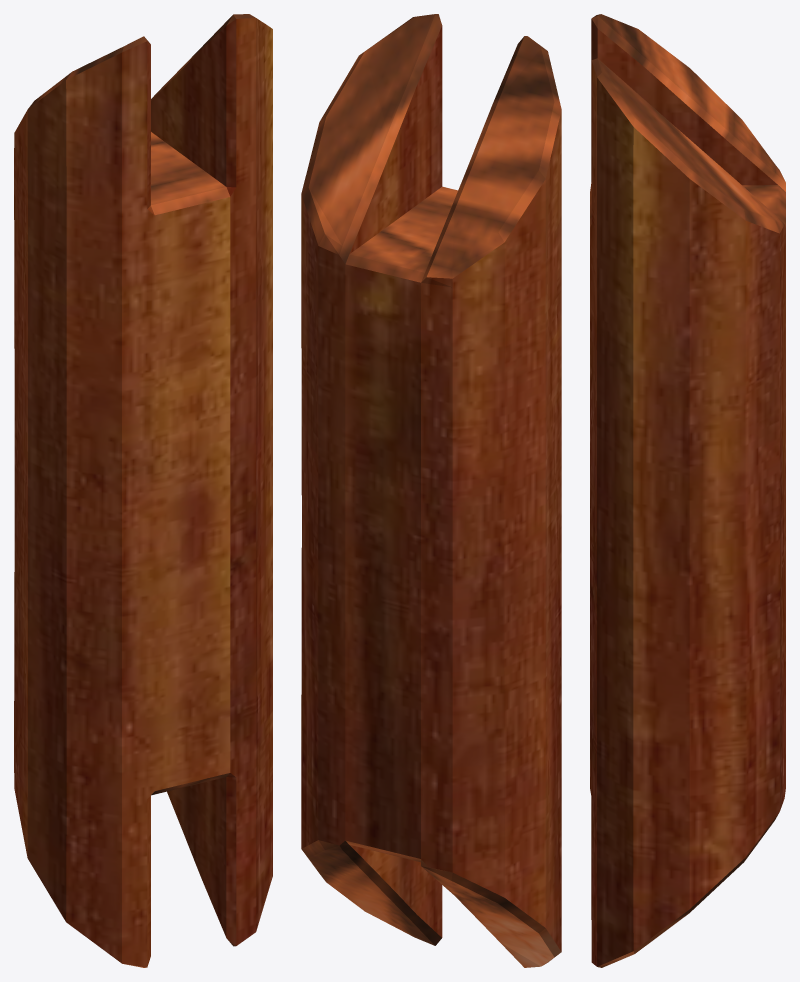
File: SJ_J_shugan_1_013.FBX
The picture shows the model from 3 angles, left to right: view 1: azimuth 30°, elevation 25°; view 2: azimuth 150°, elevation 25°; view 3: azimuth 270°, elevation 25°; orthographic projection. The views are drawn at different scales.
Parts seen in each view (by area): view 1: SJ_J_shugan_1_013; view 2: SJ_J_shugan_1_013; view 3: SJ_J_shugan_1_013.
Part boxes in pixels (<box>): SJ_J_shugan_1_013: <box>14,14,272,967</box>; SJ_J_shugan_1_013: <box>301,14,561,967</box>; SJ_J_shugan_1_013: <box>590,14,785,967</box>.
Bounding box in the file's own units: 2 × 7.85 × 1.54.
Materials: 2 (2 with a texture image).
